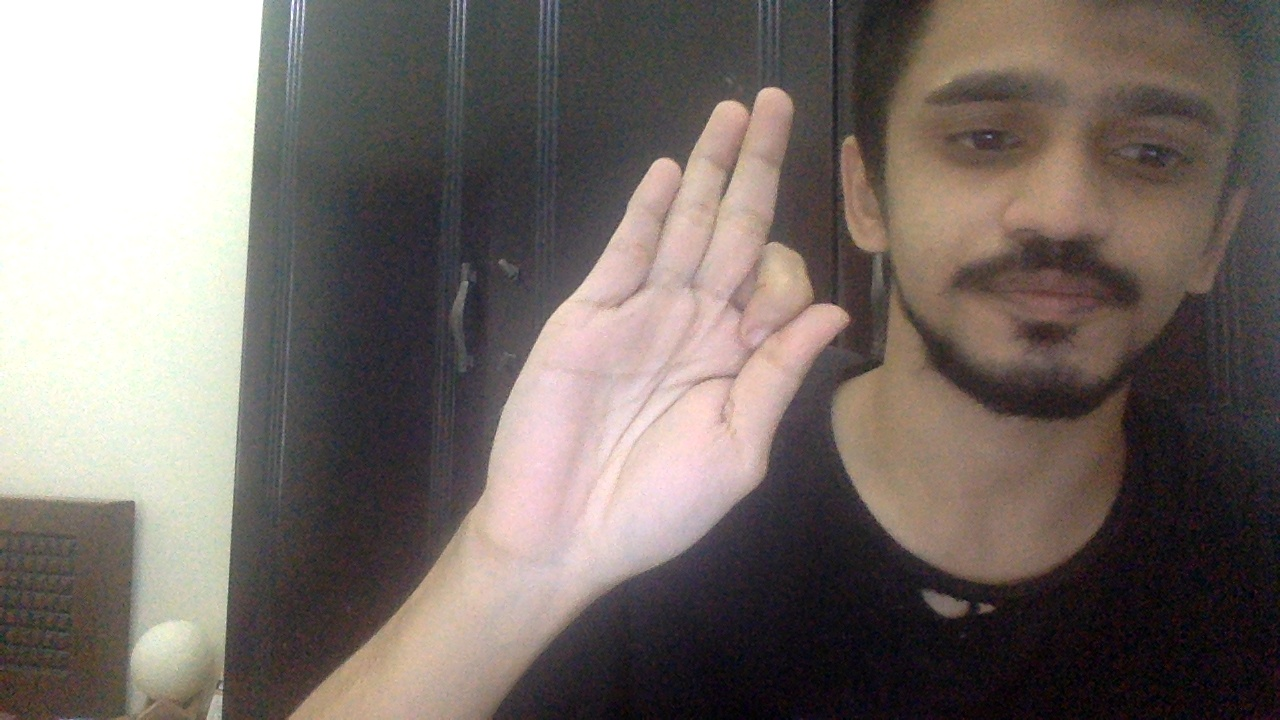perfect: (475, 85, 851, 593)
